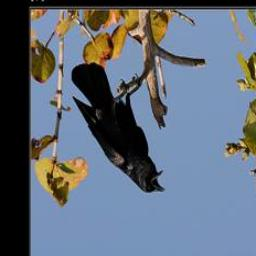Crow: (71, 64, 164, 196)
